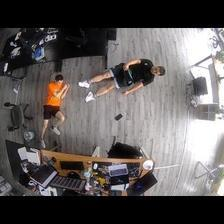fall: (76, 58, 166, 105), (39, 75, 71, 148)
